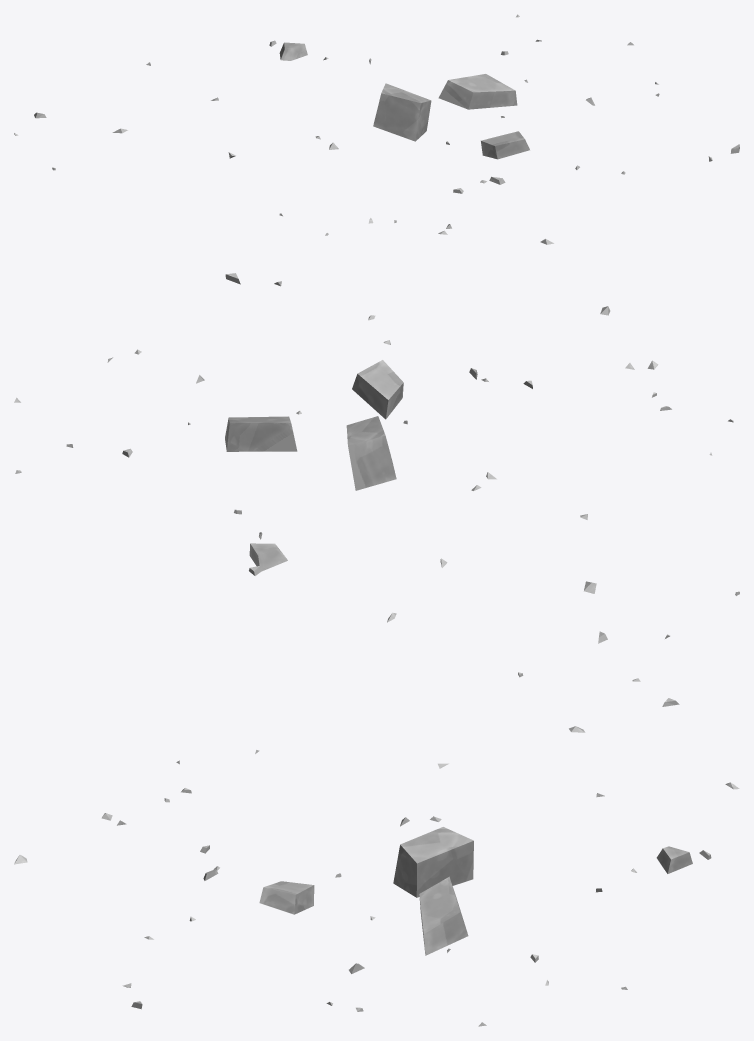
Rendered from sculpted_pebbles_02.glb.
3 views of the same model, one above another, from view 1: azimuth 30°, elevation 25°; view 2: azimuth 150°, elevation 25°; view 3: azimuth 270°, elevation 25° (orthographic). The views are drawn at different scales.
Parts seen in each view (by area): view 1: sculpted_pebbles_02; view 2: sculpted_pebbles_02; view 3: sculpted_pebbles_02.
Boxes of the visible parts, box(x1,y1,x2,y2) form: sculpted_pebbles_02: box(14, 14, 739, 244); sculpted_pebbles_02: box(14, 273, 739, 643); sculpted_pebbles_02: box(14, 672, 739, 1026).
Size of the model in its own units: 2.64 by 0.1741 by 2.32.
Materials: 1 (1 with a texture image).
